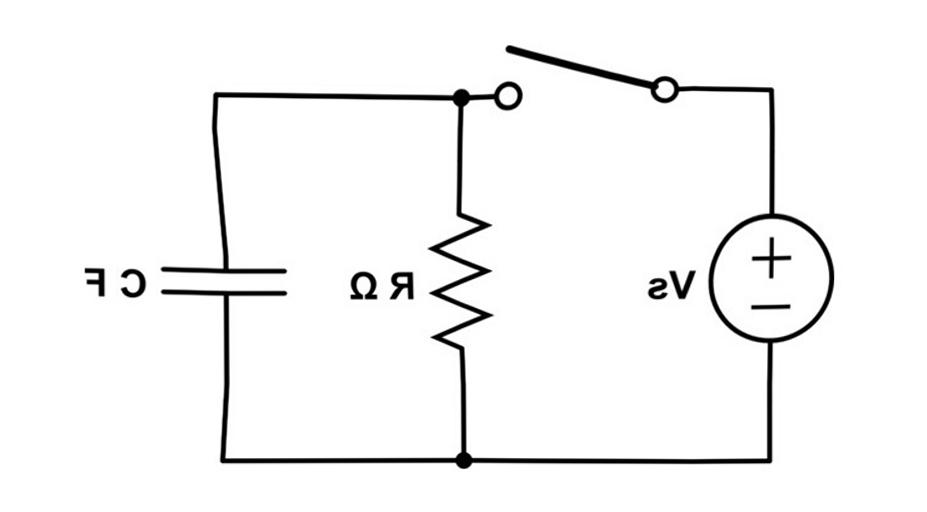Battery: (687, 198, 848, 350)
